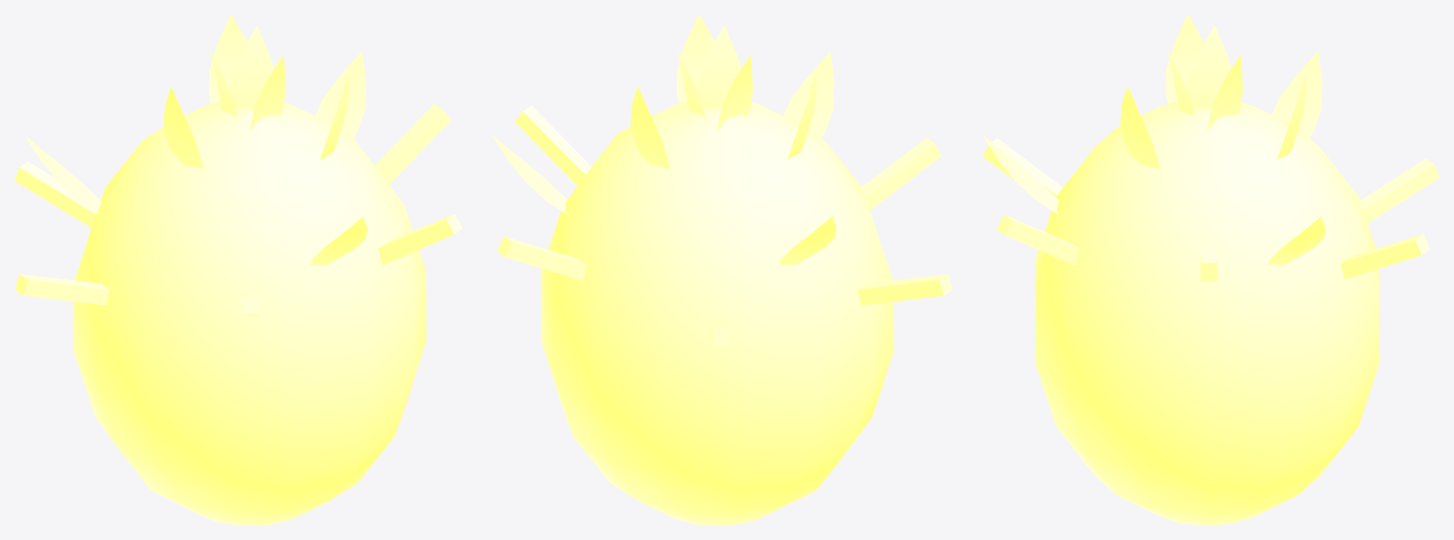
The model's file is fruit-dragon-shocked.gltf.
3 renders of one model, left to right at view 1: azimuth 30°, elevation 25°; view 2: azimuth 150°, elevation 25°; view 3: azimuth 270°, elevation 25°, orthographic.
Bounding box in the file's own units: 0.564 × 0.5892 × 0.5217.
